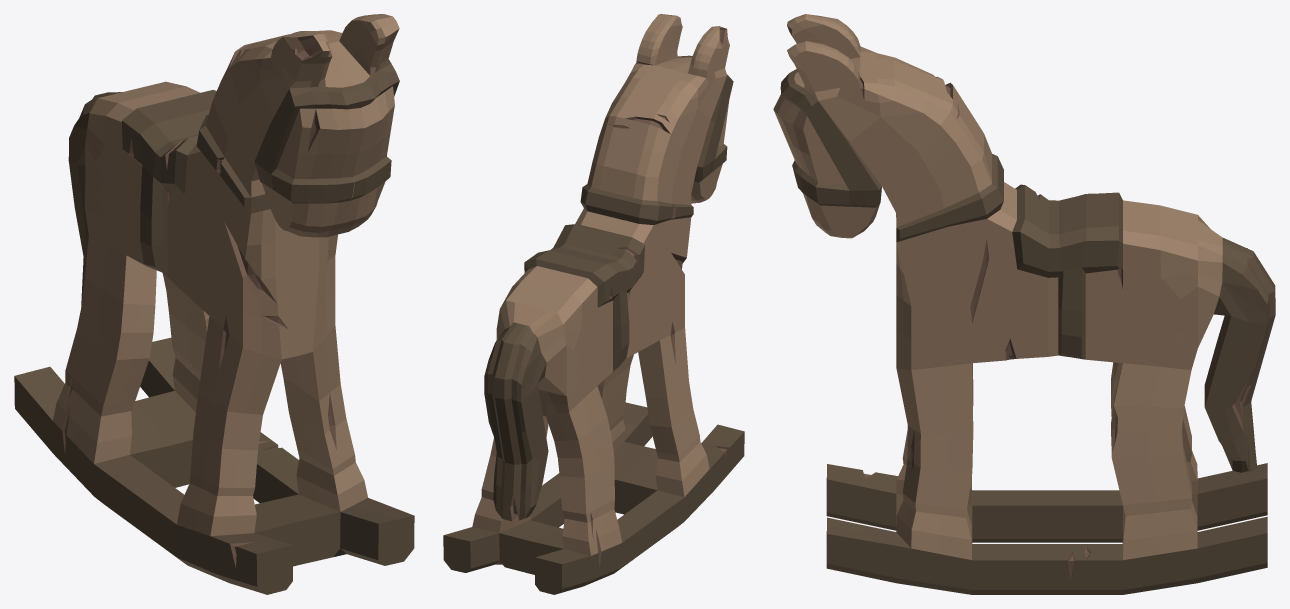
The model's file is RockingHouse.fbx.
The picture shows the model from 3 angles, left to right: view 1: azimuth 30°, elevation 25°; view 2: azimuth 150°, elevation 25°; view 3: azimuth 270°, elevation 25°; orthographic projection. The views are drawn at different scales.
Visible parts, largest first — view 1: Cube; view 2: Cube; view 3: Cube.
Part boxes in pixels (x1=…): Cube: x1=14, y1=14, x2=414, y2=594; Cube: x1=443, y1=14, x2=744, y2=594; Cube: x1=773, y1=14, x2=1275, y2=594.
Size of the model in its own units: 83.84 by 299 by 254.
